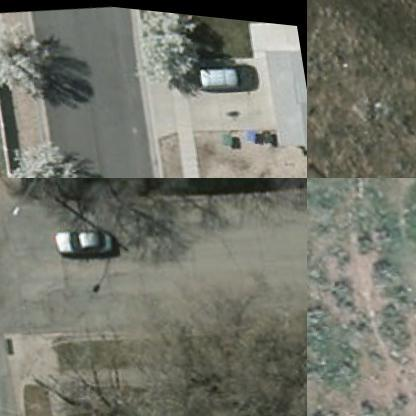car: (188, 45, 256, 95), (52, 216, 116, 258)
